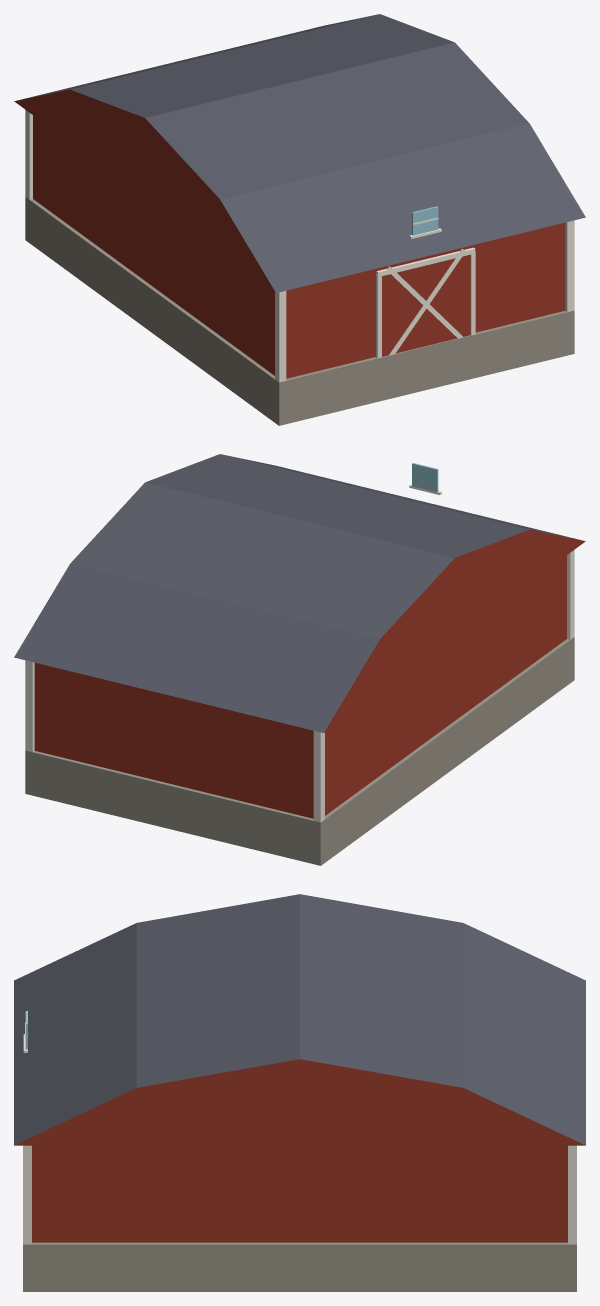
Rendered from barn.glb.
The picture shows the model from 3 angles, top to bottom: view 1: azimuth 30°, elevation 25°; view 2: azimuth 150°, elevation 25°; view 3: azimuth 270°, elevation 25°; orthographic projection. The views are drawn at different scales.
Parts seen in each view (by area): view 1: barn-col; view 2: barn-col; view 3: barn-col.
Boxes of the visible parts, x1,y1,x2,y2 form: barn-col: (14, 14, 585, 425); barn-col: (14, 454, 585, 865); barn-col: (14, 894, 585, 1291).
Bounding box in the file's own units: 17.2 × 11.5 × 25.2.
